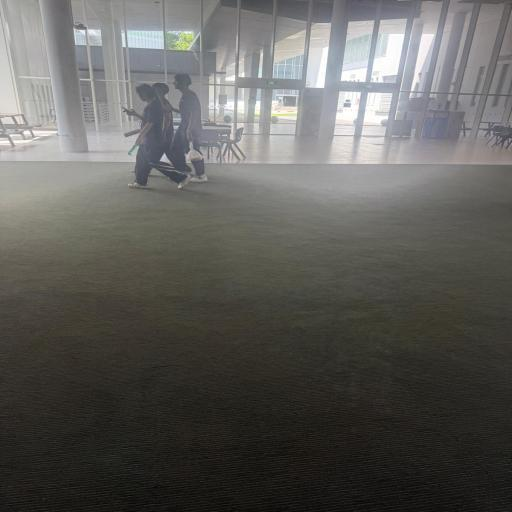person_left: (122, 84, 190, 190), (165, 74, 208, 184), (152, 82, 192, 176)
